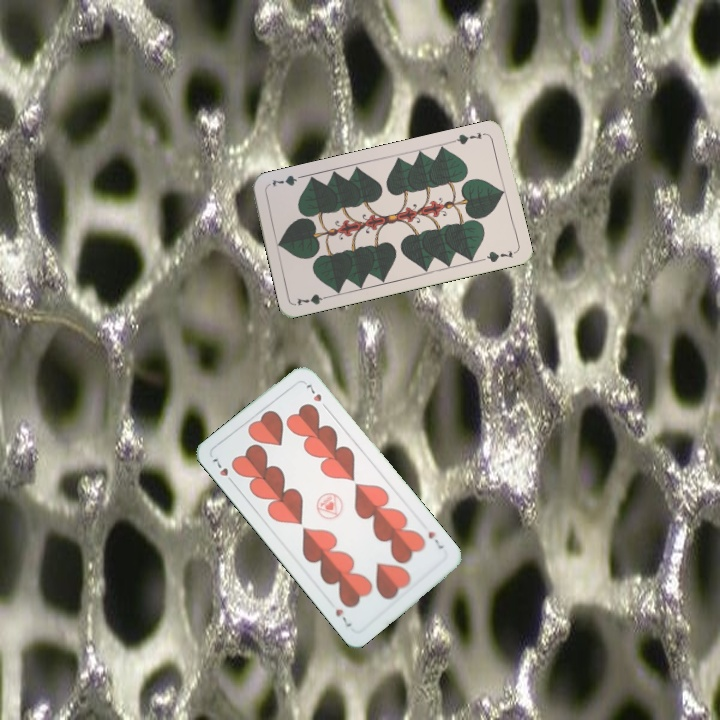G7: (449, 128, 489, 147), (293, 290, 333, 308)
H7: (208, 452, 237, 487), (424, 527, 446, 552)
